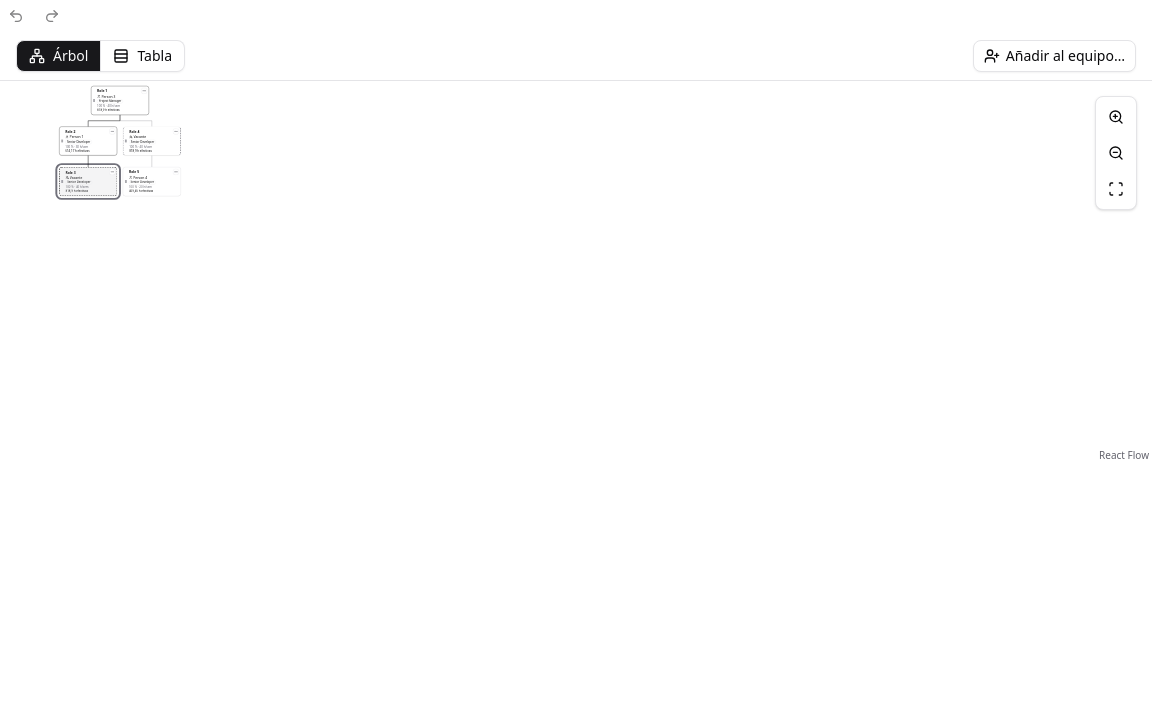
Test: the team's menus › gives focus back to the node when a dialog is cancelled
This screenshot has width=1152, height=720.
Press Enter
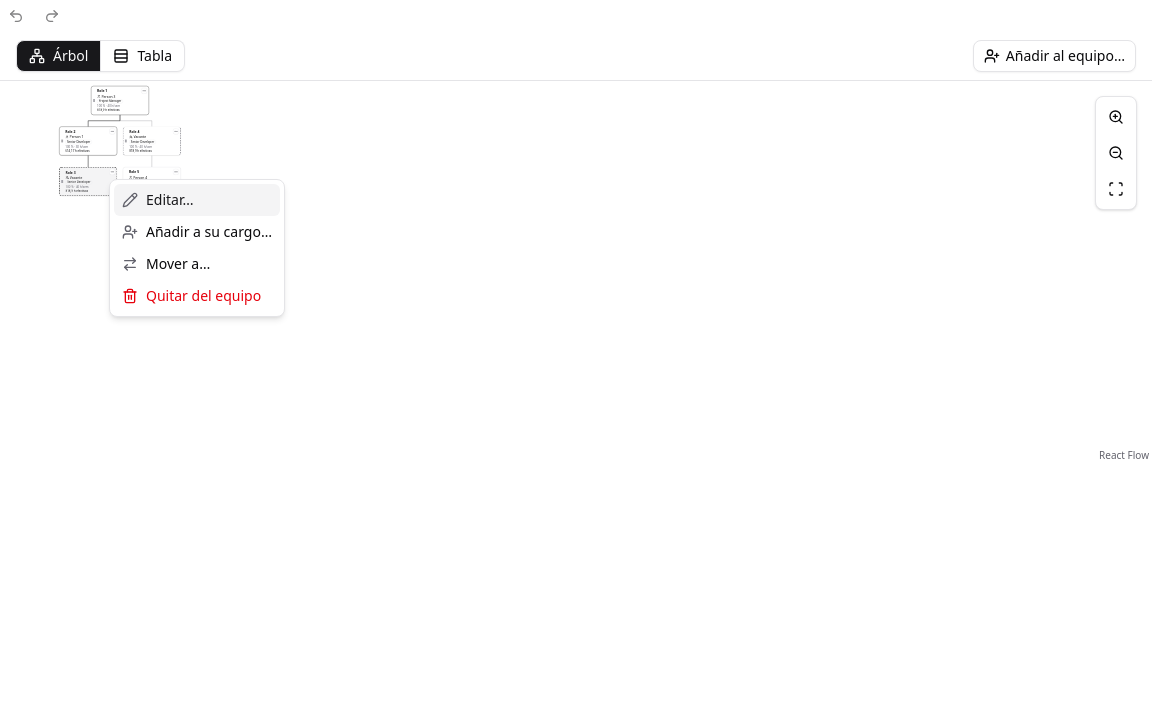
Click the menu item "Mover a…".
click(166, 264)  # box top-left (122, 254), bottom-right (210, 273)
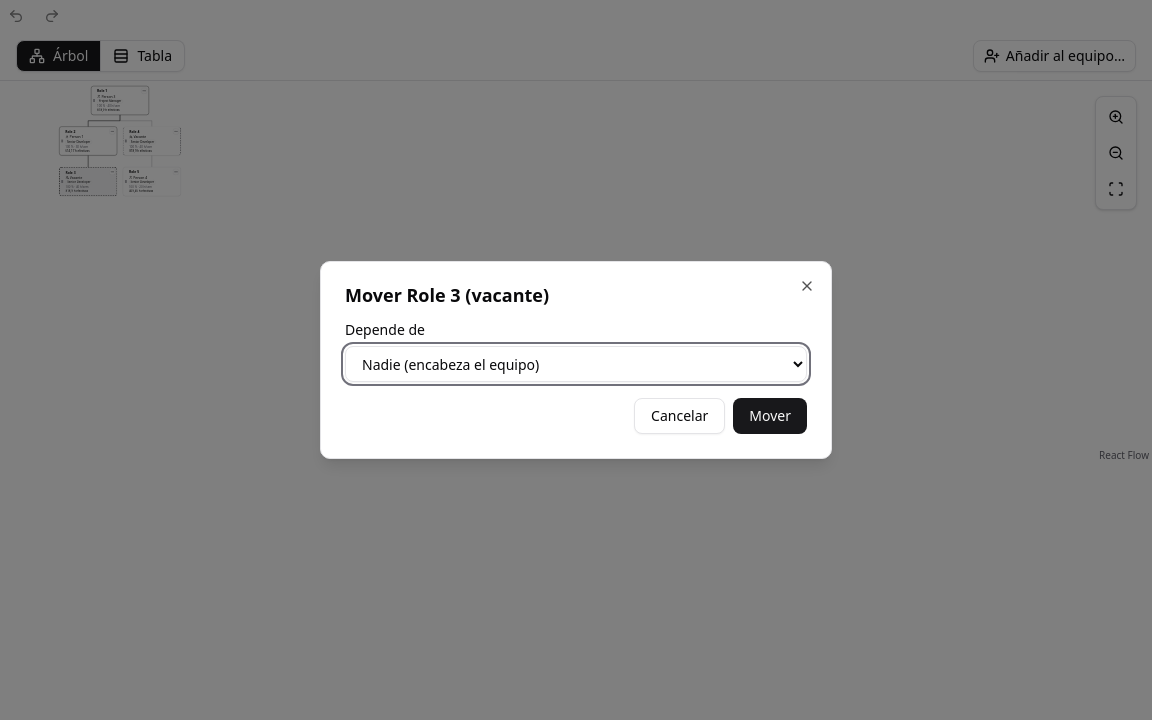
Click the button "Cancelar".
click(680, 416)  # box top-left (634, 398), bottom-right (725, 434)
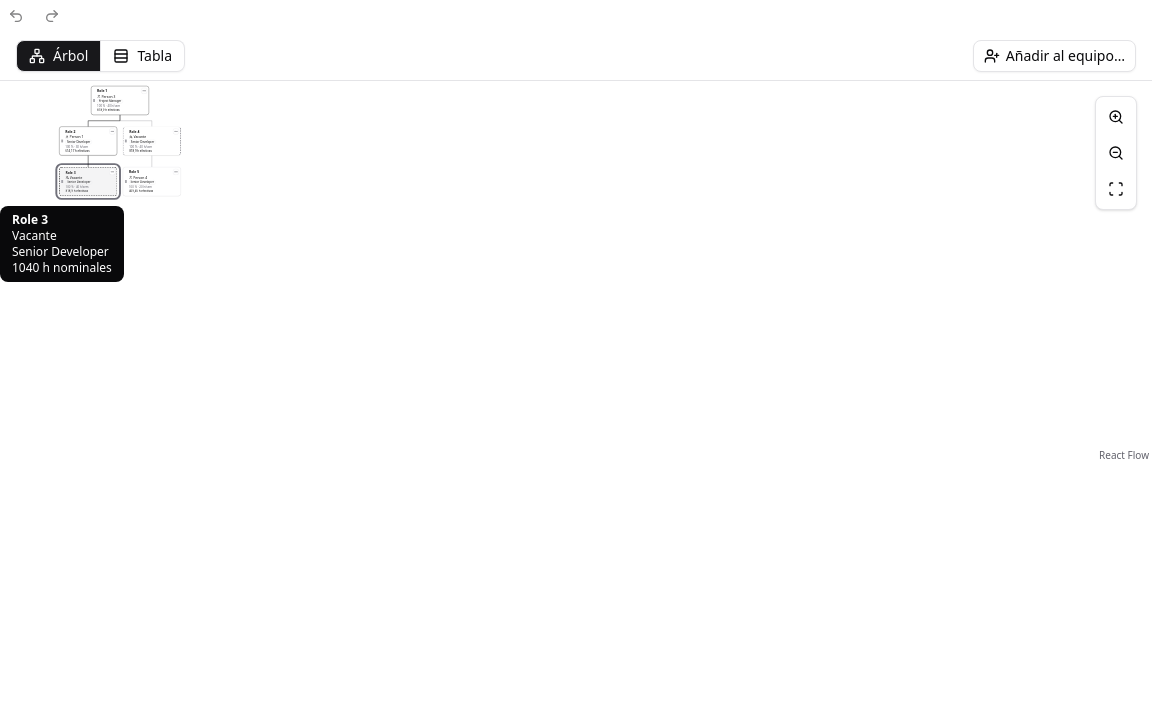
Expected: the dialog is gone
